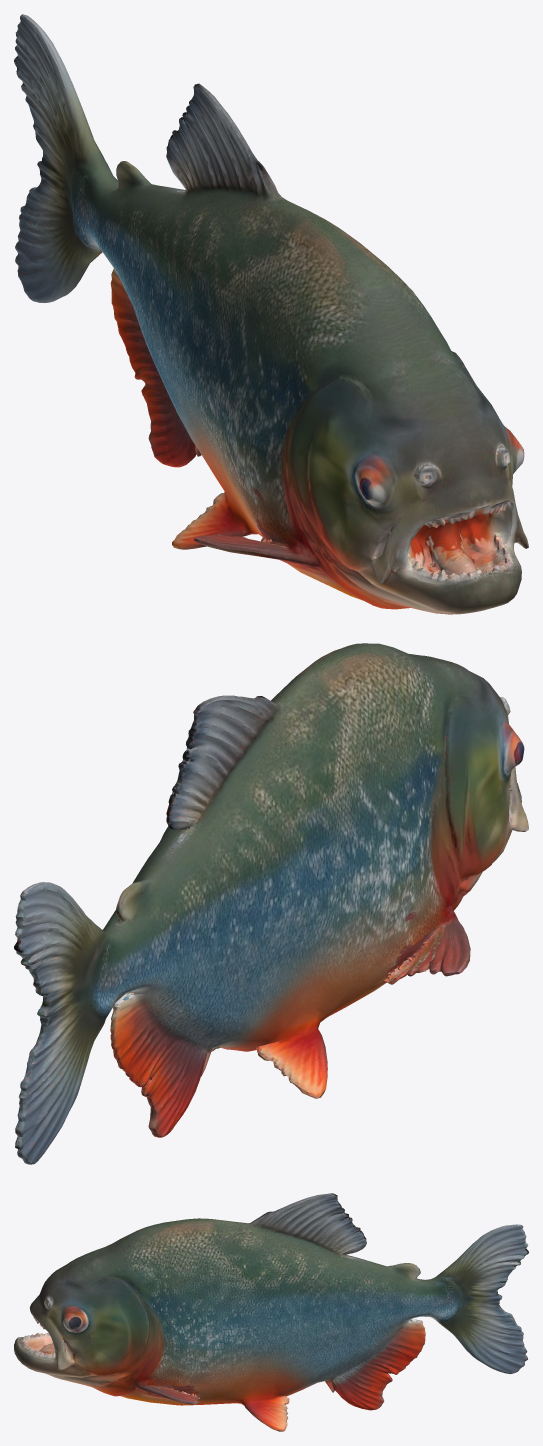
Rendered from quipper.glb.
3 views of the same model, one above another, from view 1: azimuth 30°, elevation 25°; view 2: azimuth 150°, elevation 25°; view 3: azimuth 270°, elevation 25° (orthographic). The views are drawn at different scales.
Size of the model in its own units: 0.6434 by 0.9437 by 2.01.
Materials: 1 (1 with a texture image).
